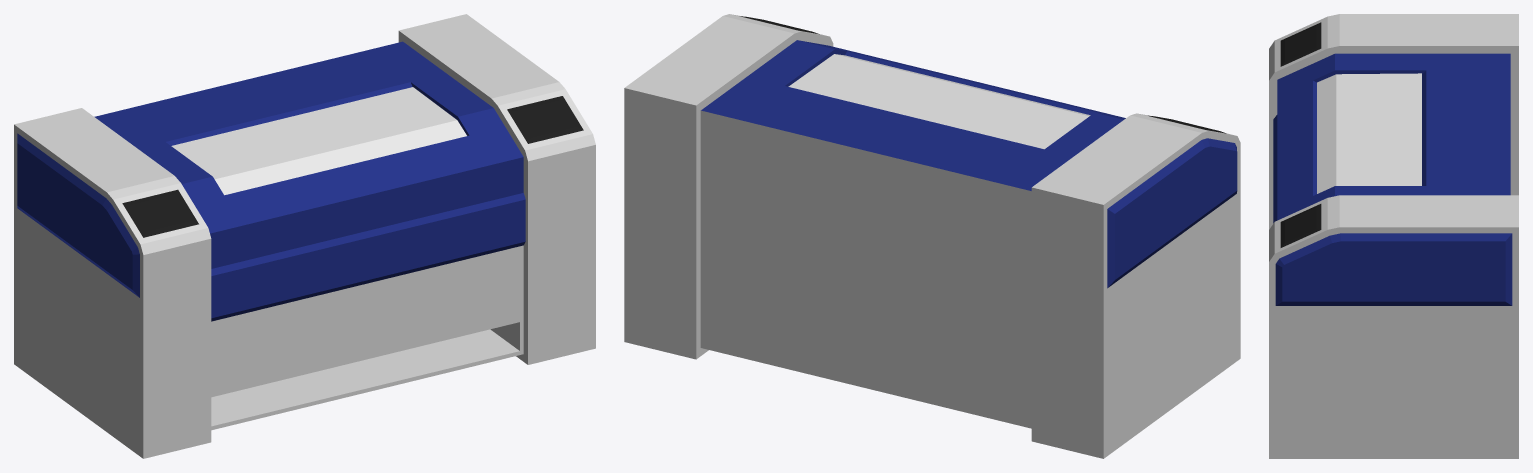
Rendered from laserprinter.dae.
The picture shows the model from 3 angles, left to right: view 1: azimuth 30°, elevation 25°; view 2: azimuth 150°, elevation 25°; view 3: azimuth 270°, elevation 25°; orthographic projection. The views are drawn at different scales.
Parts seen in each view (by area): view 1: Chassis, Lid, OuterTray, Window, SidePanels, RightButton, LeftButton; view 2: Chassis, Lid, Window, SidePanels; view 3: Chassis, Lid, SidePanels, Window, RightButton, LeftButton, OuterTray.
Boxes of the visible parts, x1,y1,x2,y2 form: Chassis: [14, 14, 595, 458]; Lid: [94, 41, 523, 268]; OuterTray: [211, 193, 525, 321]; Window: [171, 87, 466, 195]; SidePanels: [17, 133, 139, 297]; RightButton: [507, 96, 583, 143]; LeftButton: [122, 189, 198, 237]; Chassis: [624, 14, 1240, 458]; Lid: [701, 40, 1125, 190]; Window: [788, 54, 1090, 149]; SidePanels: [1107, 138, 1237, 288]; Chassis: [1269, 14, 1518, 458]; Lid: [1277, 53, 1510, 220]; SidePanels: [1275, 233, 1512, 305]; Window: [1317, 73, 1421, 193]; RightButton: [1280, 204, 1321, 247]; LeftButton: [1280, 22, 1321, 66]; OuterTray: [1273, 115, 1277, 223].
Bounding box in the file's own units: 6.16 × 3 × 3.07.
